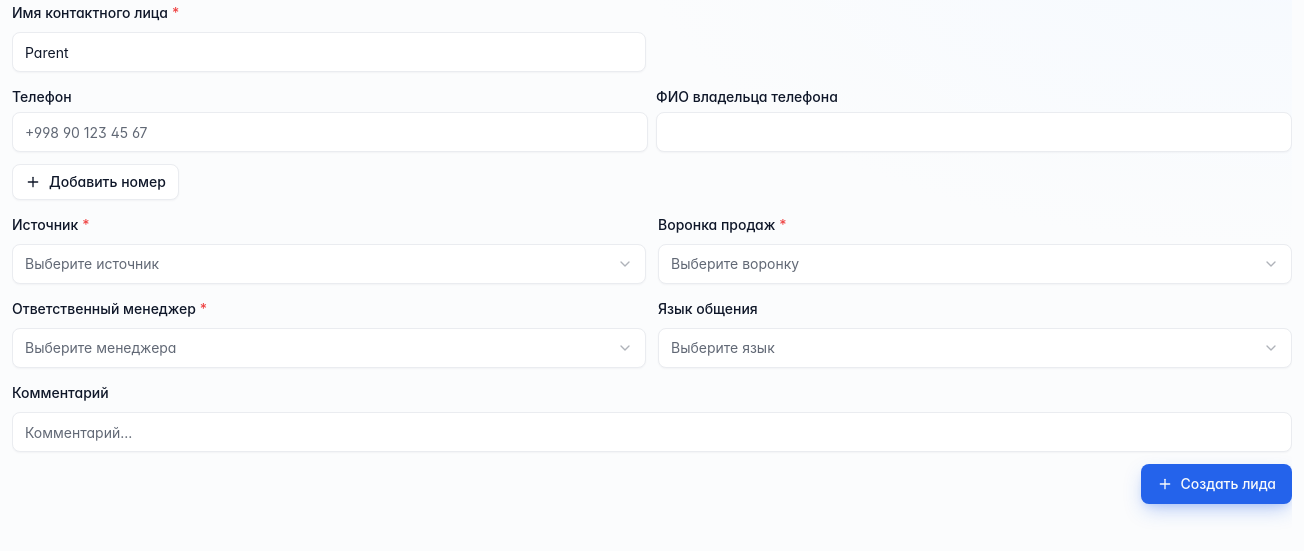
it: lets the manager select a language and return to an empty selection
The image size is (1304, 551).
Click the dropdown named "Язык общения" at (723, 348), box [658, 328, 1292, 368]
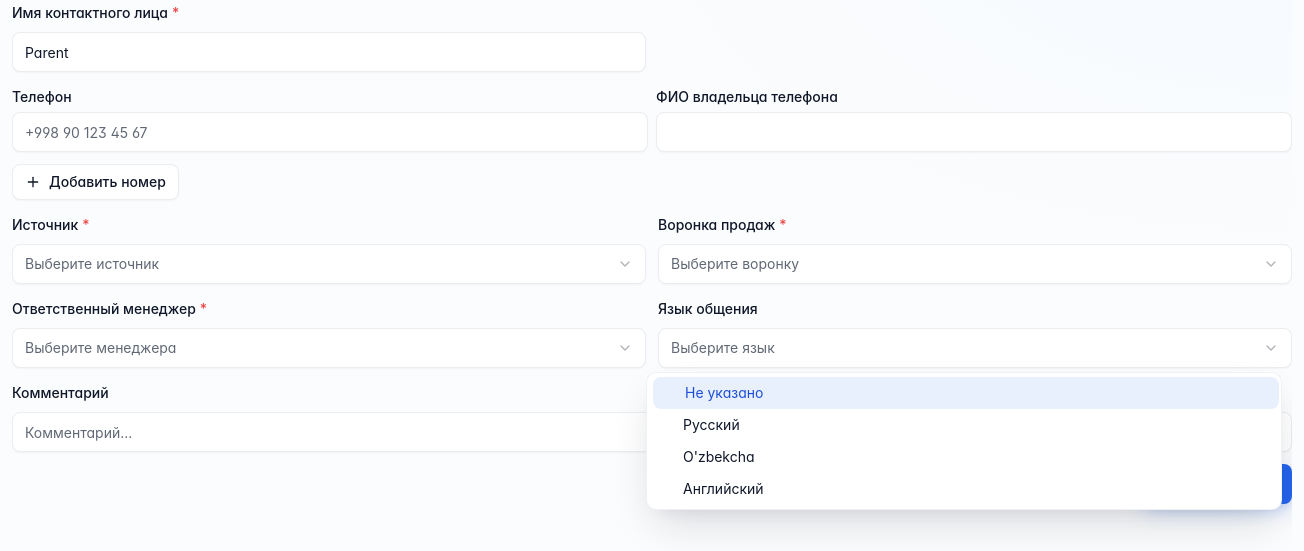
Click the option "Русский" at (711, 424), box [683, 416, 740, 433]
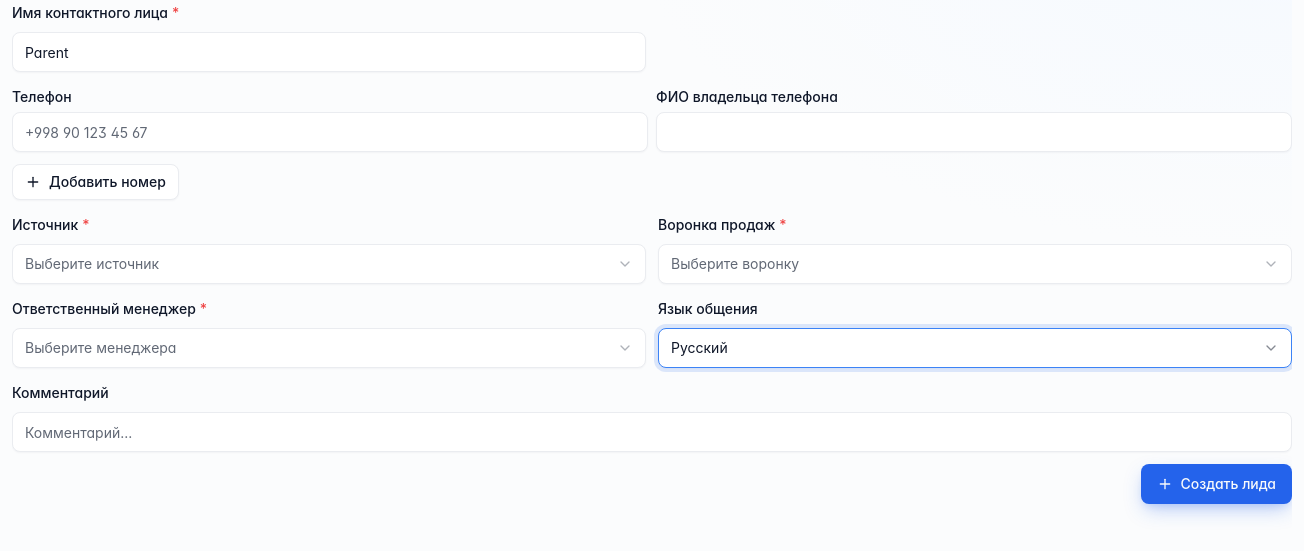
Expected: the dropdown named "Язык общения" reads "Русский"
Click the dropdown named "Язык общения" at (699, 348), box [658, 328, 1292, 368]
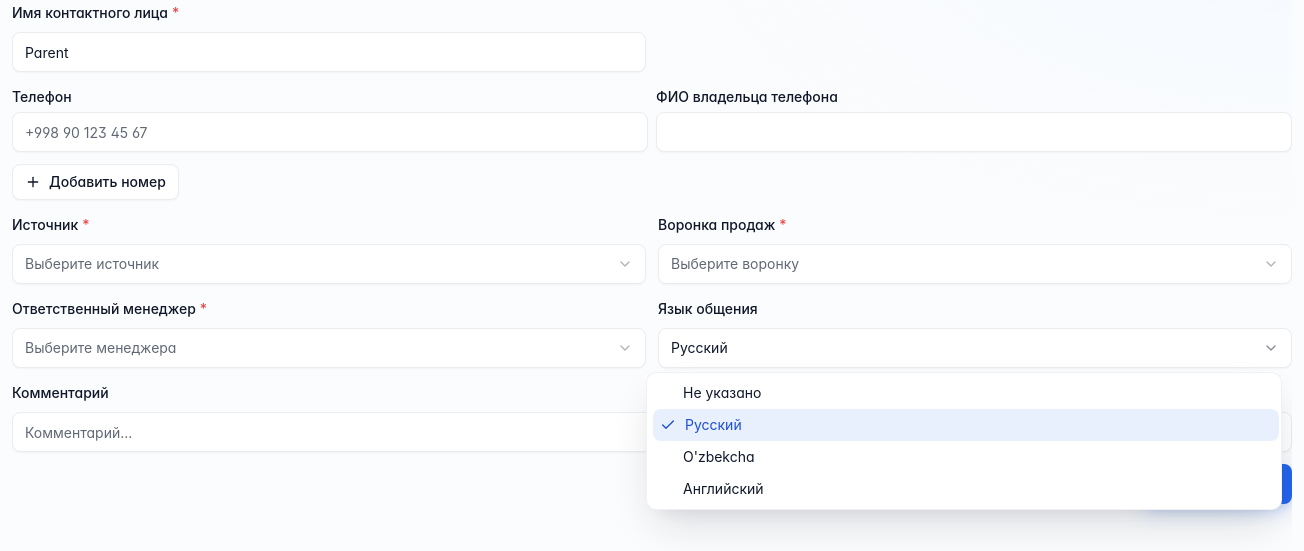
Click the option "Не указано" at (722, 392), box [683, 384, 761, 401]
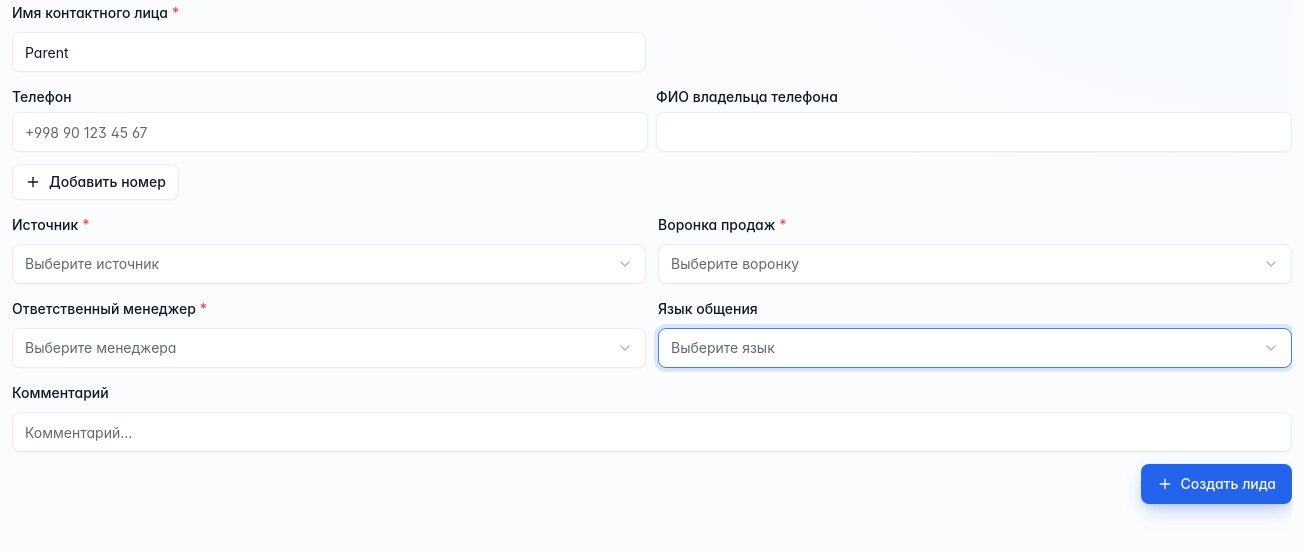
Expected: the dropdown named "Язык общения" reads "Выберите язык", [658, 328, 1292, 368]
